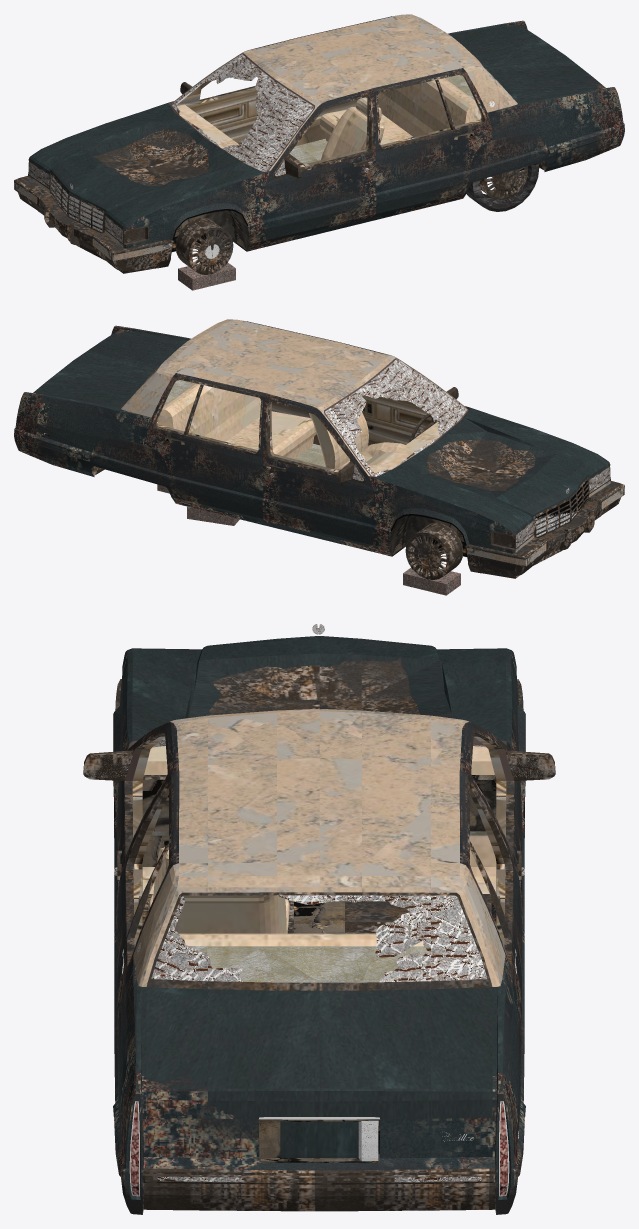
Rendered from 廢棄車2.dae.
The picture shows the model from 3 angles, top to bottom: view 1: azimuth 30°, elevation 25°; view 2: azimuth 150°, elevation 25°; view 3: azimuth 270°, elevation 25°; orthographic projection. The views are drawn at different scales.
Visible parts, largest first — view 1: group_29 (×2), group_73, group_23, group_69, Group_3 (×2), group_11, group_4, group_37, group_48, group_67 (×2), group_56, group_61 (+18 smaller); view 2: group_29 (×2), group_73, group_51, group_69, Group_3 (×2), group_37, group_11, group_4, group_67 (×2), group_48, group_61, group_22 (+16 smaller); view 3: group_73, group_11 (×2), group_29 (×2), group_9 (×2), group_17, group_72 (×2), group_46, group_38 (×4), group_48 (×3), group_69 (×2), Group_3 (×2), Component_3 (×2) (+14 smaller).
Part boxes in pixels (<box>): group_29 (×2): <box>29,103,261,228</box>; group_73: <box>173,14,517,171</box>; group_23: <box>262,88,376,241</box>; group_69: <box>372,68,492,215</box>; Group_3 (×2): <box>247,87,624,251</box>; group_11: <box>451,25,599,102</box>; group_4: <box>171,54,313,171</box>; group_37: <box>320,78,480,144</box>; group_48: <box>487,90,602,147</box>; group_67 (×2): <box>123,171,270,248</box>; group_56: <box>177,81,257,144</box>; group_61: <box>175,217,233,274</box>; group_29 (×2): <box>377,408,609,533</box>; group_73: <box>121,319,465,476</box>; group_51: <box>262,393,376,546</box>; group_69: <box>146,373,266,520</box>; Group_3 (×2): <box>14,392,391,556</box>; group_37: <box>158,383,316,458</box>; group_11: <box>33,331,187,407</box>; group_4: <box>325,359,467,476</box>; group_67 (×2): <box>368,476,515,553</box>; group_48: <box>36,396,151,452</box>; group_61: <box>405,522,463,579</box>; group_22: <box>362,395,437,445</box>; group_73: <box>133,709,505,986</box>; group_11 (×2): <box>146,987,492,1119</box>; group_29 (×2): <box>132,636,506,741</box>; group_9 (×2): <box>142,1076,496,1170</box>; group_17: <box>143,1168,495,1211</box>; group_72 (×2): <box>151,895,487,982</box>; group_46: <box>189,946,430,982</box>; group_38 (×4): <box>142,746,496,933</box>; group_48 (×3): <box>118,955,520,1148</box>; group_69 (×2): <box>114,771,524,1034</box>; Group_3 (×2): <box>113,817,525,1214</box>; Component_3 (×2): <box>125,779,513,970</box>.
Size of the model in its own units: 168 by 65.66 by 44.86.
Materials: 16 (13 with a texture image).
